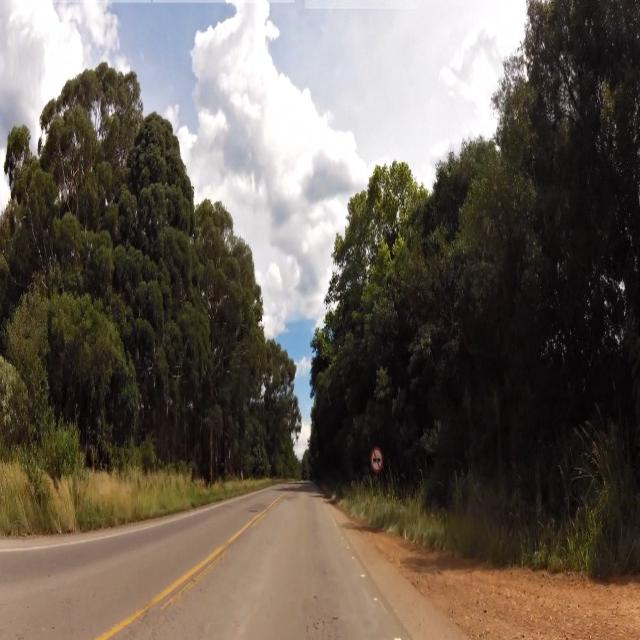R-7: (371, 448, 382, 473)
